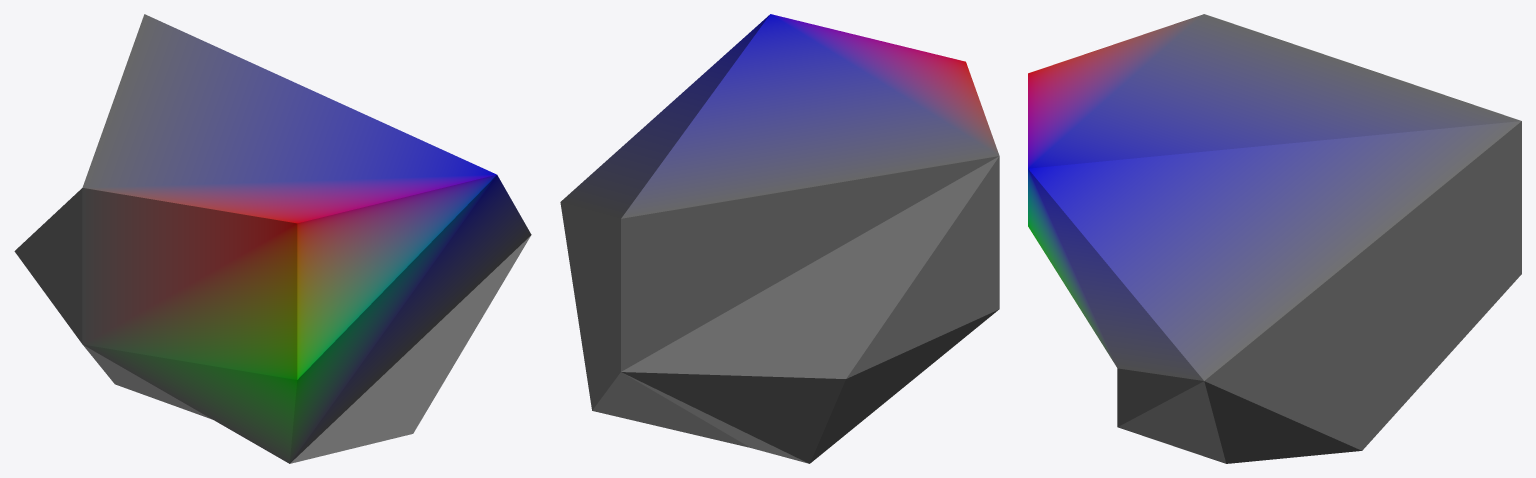
File: gate_cleaning_conquest_109.obj
3 views of the same model, side by side, from view 1: azimuth 30°, elevation 25°; view 2: azimuth 150°, elevation 25°; view 3: azimuth 270°, elevation 25° (orthographic). The views are drawn at different scales.
Size of the model in its own units: 1.85 by 1.31 by 1.81.
